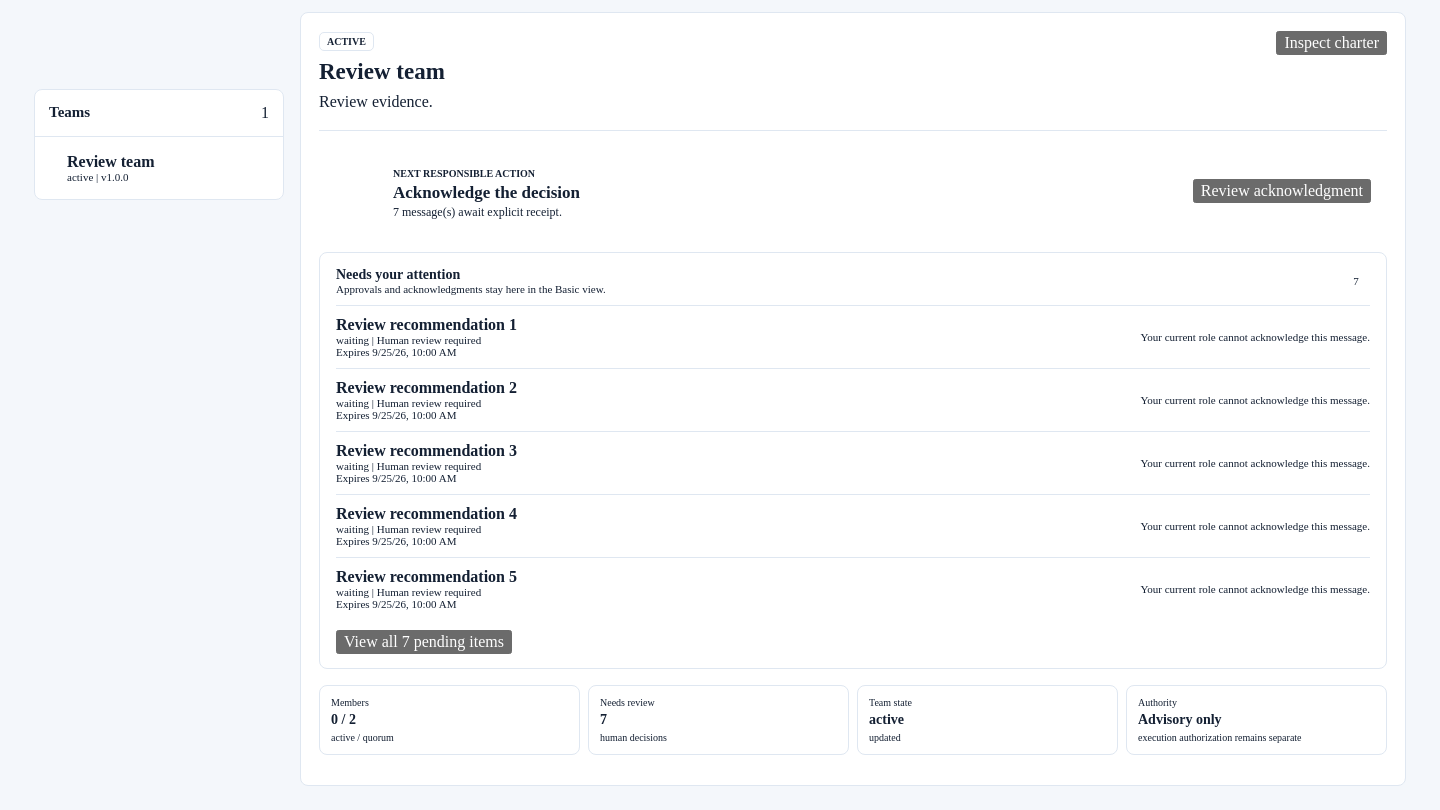
Test: AgentTeamsComponent › rendered attention queue › keeps the full queue visible without granting acknowledgment actions to a read-only role
(page scrolled)
Click the button with class "attention-view-all" at (424, 642), box [336, 630, 512, 654]
(page scrolled)
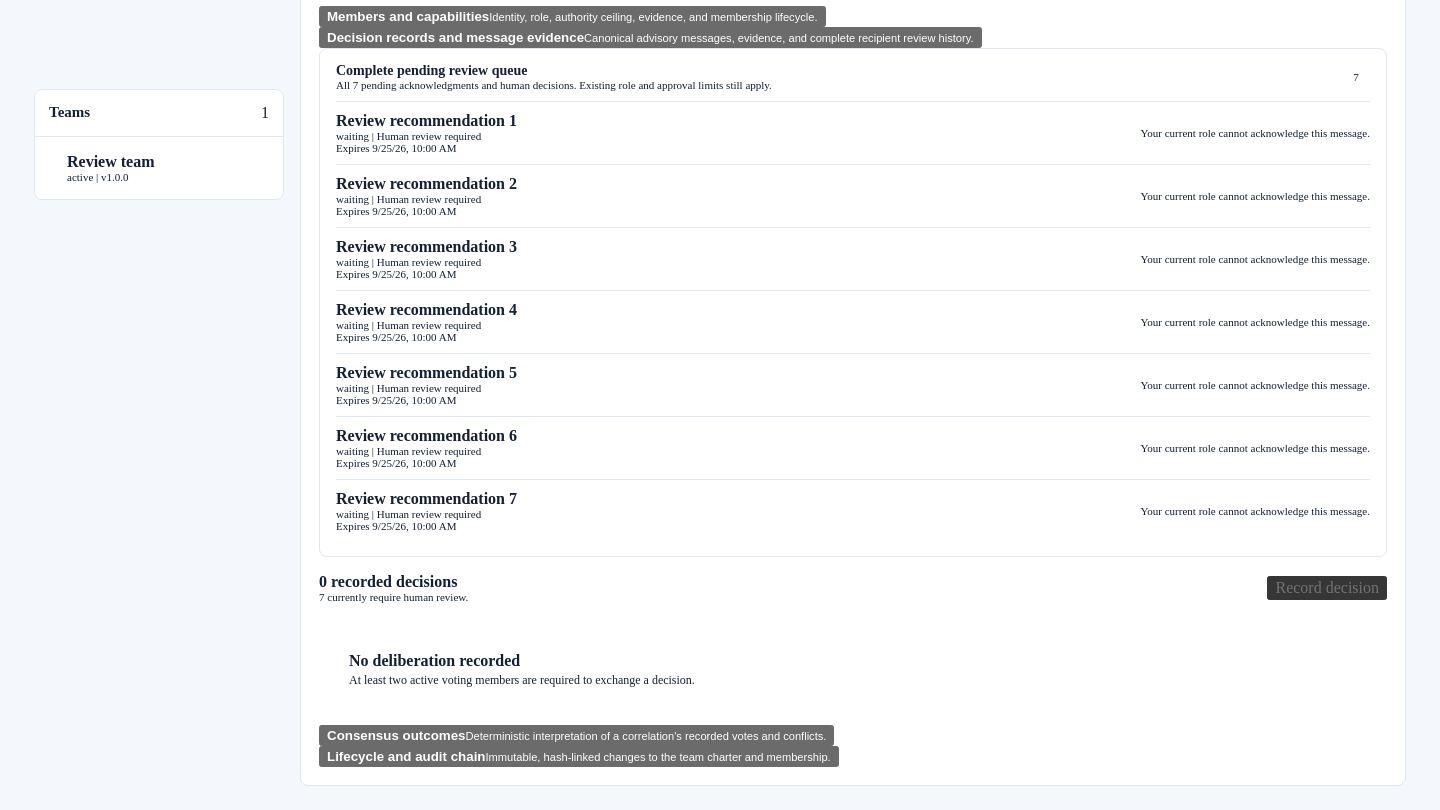
Expected: the element with id "agent-team-decisions" shows "Your current role cannot acknowledge this message.", [1140, 126, 1370, 138]
